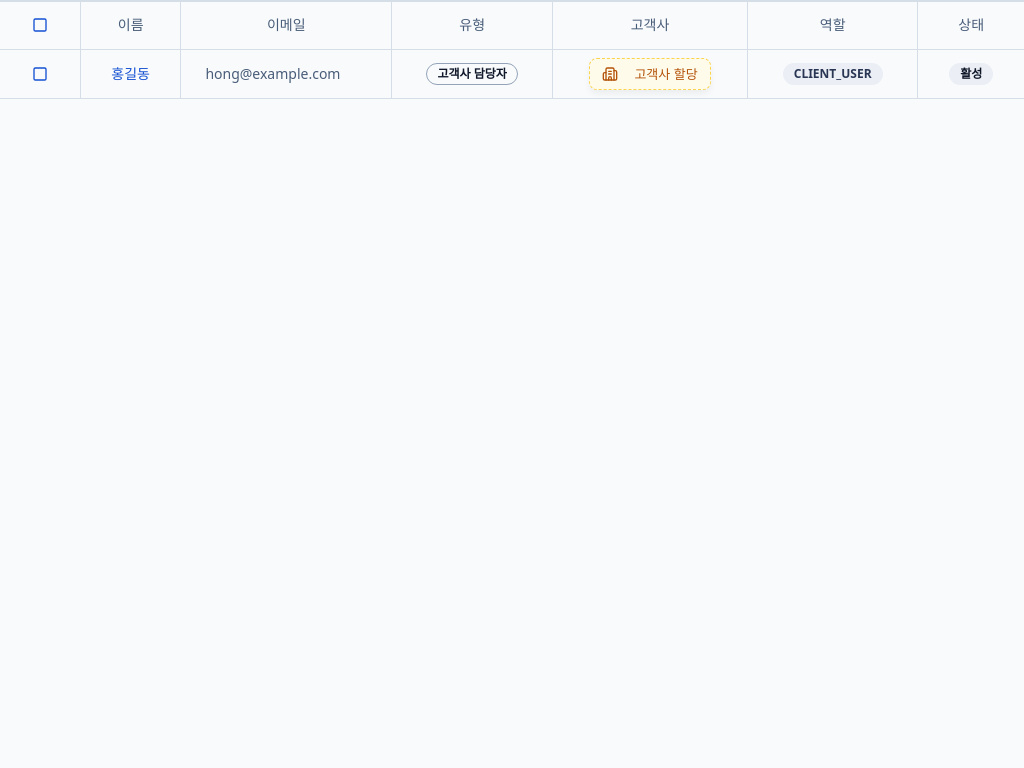
Test: UserTable — 고객사 할당 드롭다운 › 409 본문에 건수가 없으면 0건으로 보여준다
The width and height of the screenshot is (1024, 768).
Click the button "고객사 할당" at (650, 74), box [589, 58, 711, 90]
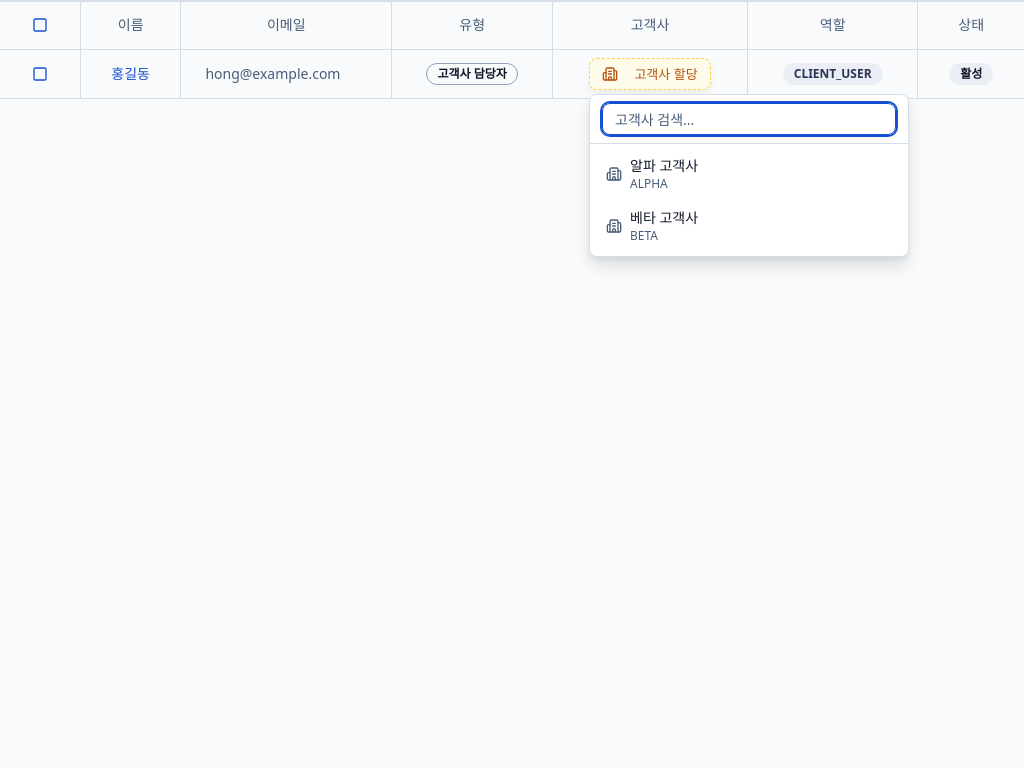
Click the text "알파 고객사" at (664, 166), box [630, 156, 698, 175]
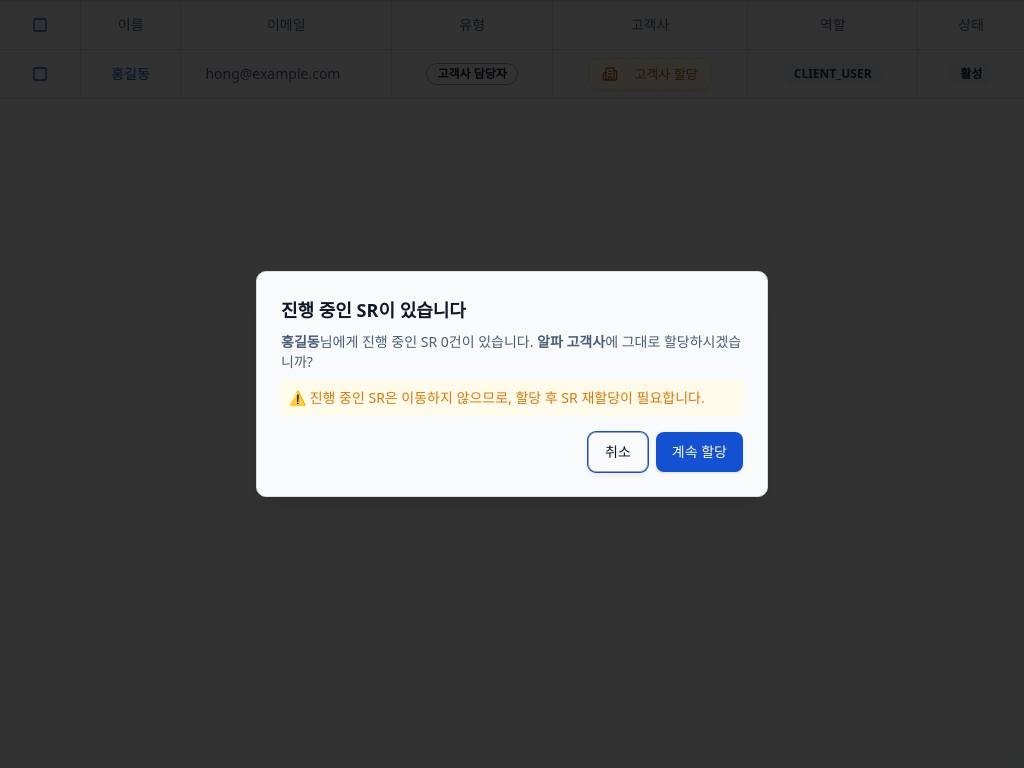
Expected: the heading "진행 중인 SR이 있습니다" is shown, [281, 298, 466, 322]
Expected: the text "진행 중인 SR 0건이 있습니다" is shown, [281, 332, 743, 416]
